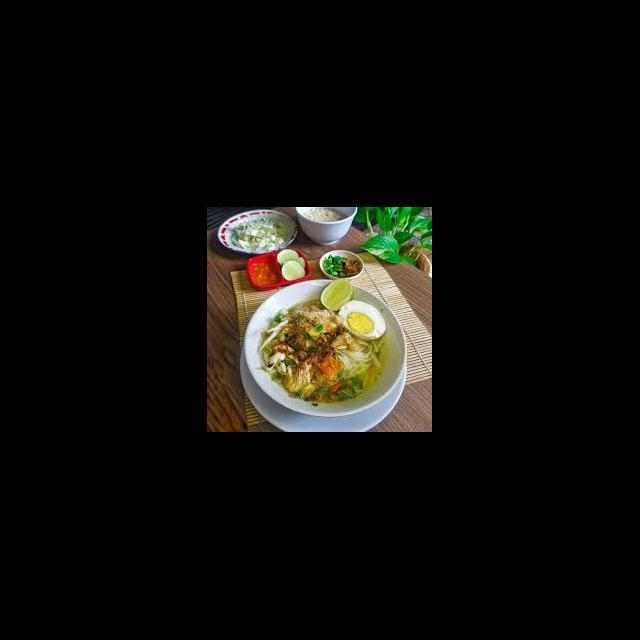Soto: (254, 282, 389, 411)
